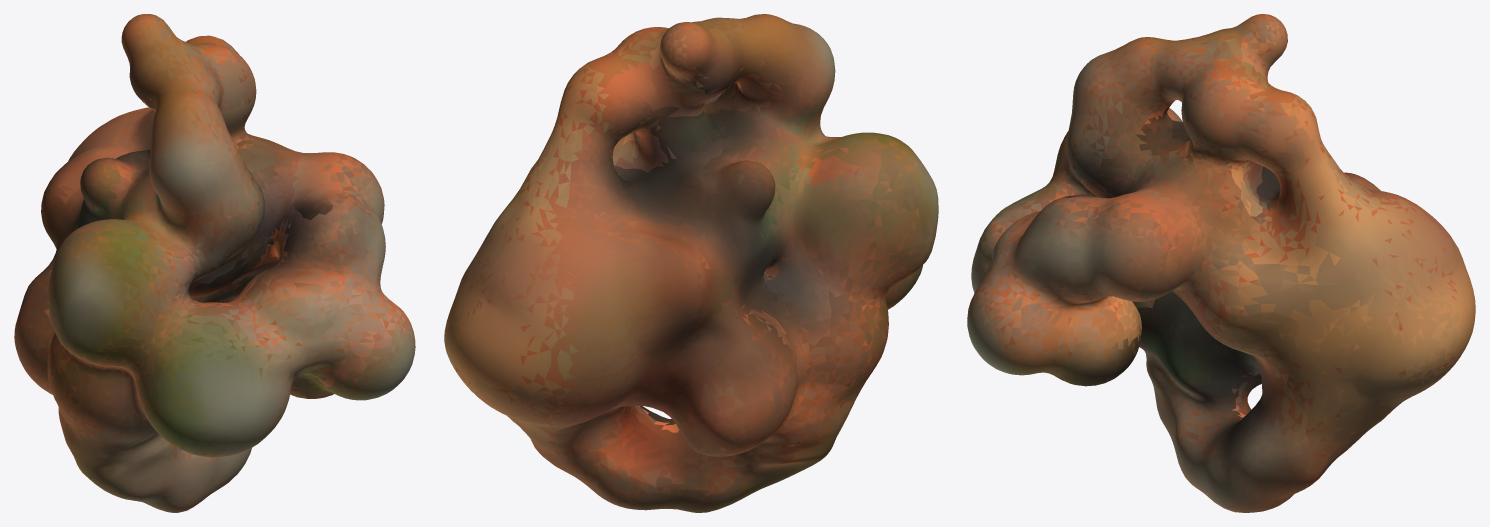
File: planet4.fbx
3 renders of one model, left to right at view 1: azimuth 30°, elevation 25°; view 2: azimuth 150°, elevation 25°; view 3: azimuth 270°, elevation 25°, orthographic. The views are drawn at different scales.
Parts seen in each view (by area): view 1: planet4; view 2: planet4; view 3: planet4.
Part boxes in pixels (left/top/right/bottom): planet4: left=14, top=14, right=415, bottom=512; planet4: left=444, top=14, right=938, bottom=512; planet4: left=967, top=14, right=1475, bottom=512.
Size of the model in its own units: 4109 by 4189 by 3045.
